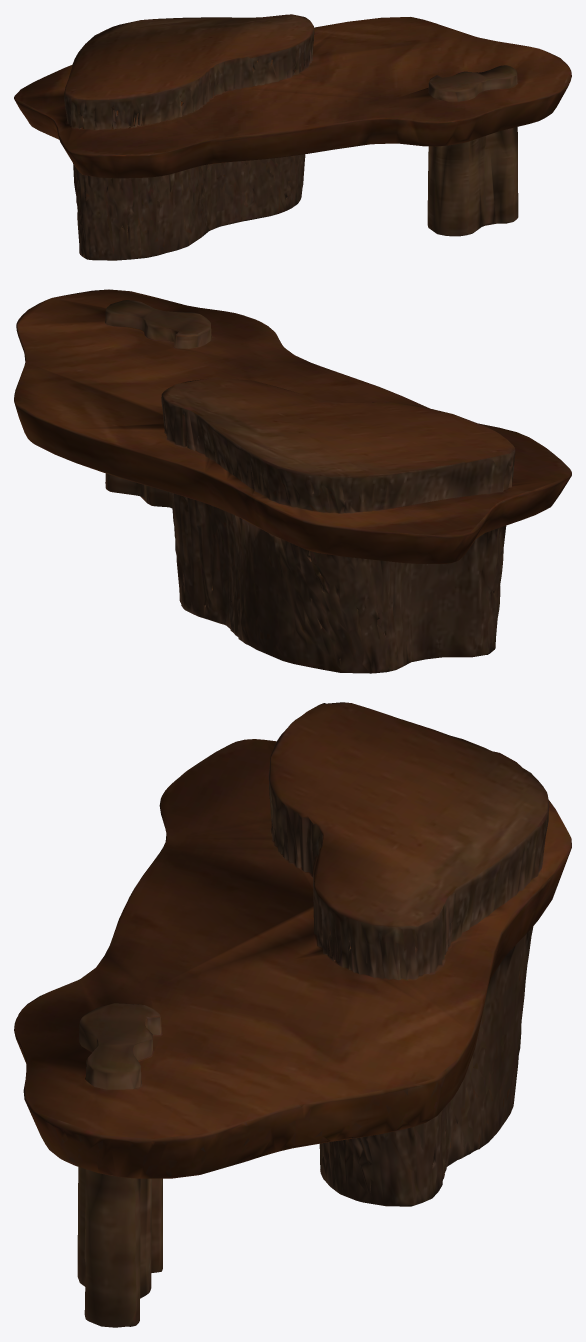
Rendered from furnimesh-coffee-table.glb.
The picture shows the model from 3 angles, top to bottom: view 1: azimuth 30°, elevation 25°; view 2: azimuth 150°, elevation 25°; view 3: azimuth 270°, elevation 25°; orthographic projection. The views are drawn at different scales.
Visible parts, largest first — view 1: coffee-table-normalized; view 2: coffee-table-normalized; view 3: coffee-table-normalized.
Part boxes in pixels (left/top/right/bottom): coffee-table-normalized: left=14, top=14, right=571, bottom=260; coffee-table-normalized: left=14, top=289, right=571, bottom=673; coffee-table-normalized: left=14, top=702, right=571, bottom=1327.
Bounding box in the file's own units: 1.02 × 0.35 × 0.6.
1 material, 1 textured.
